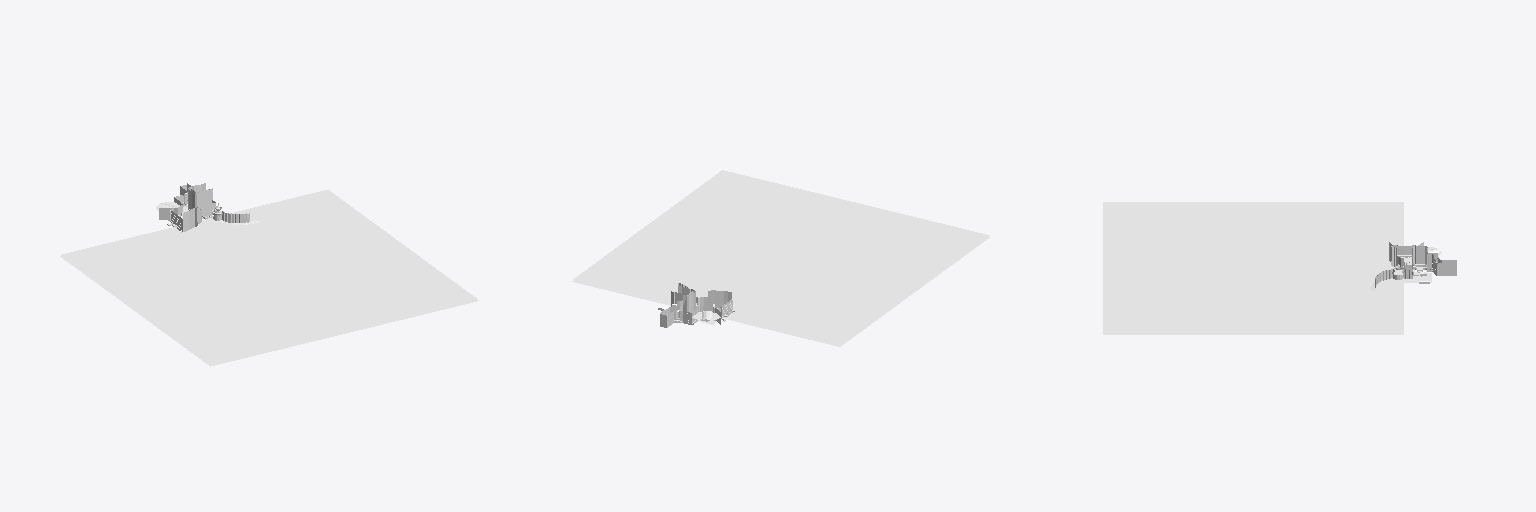
File: landtable.obj
3 views of the same model, side by side, from view 1: azimuth 30°, elevation 25°; view 2: azimuth 150°, elevation 25°; view 3: azimuth 270°, elevation 25° (orthographic).
Parts seen in each view (by area): view 1: object_0018ABB0, object_0015FA18; view 2: object_0018ABB0, object_0015FA18; view 3: object_0018ABB0, object_0015FA18.
Boxes of the visible parts, <box> form: object_0018ABB0: <box>61,190,477,364</box>; object_0015FA18: <box>60,256,477,366</box>; object_0018ABB0: <box>573,170,989,344</box>; object_0015FA18: <box>572,237,989,346</box>; object_0018ABB0: <box>1103,202,1403,332</box>; object_0015FA18: <box>1103,333,1403,334</box>.
Size of the model in its own units: 5660 by 531 by 6472.